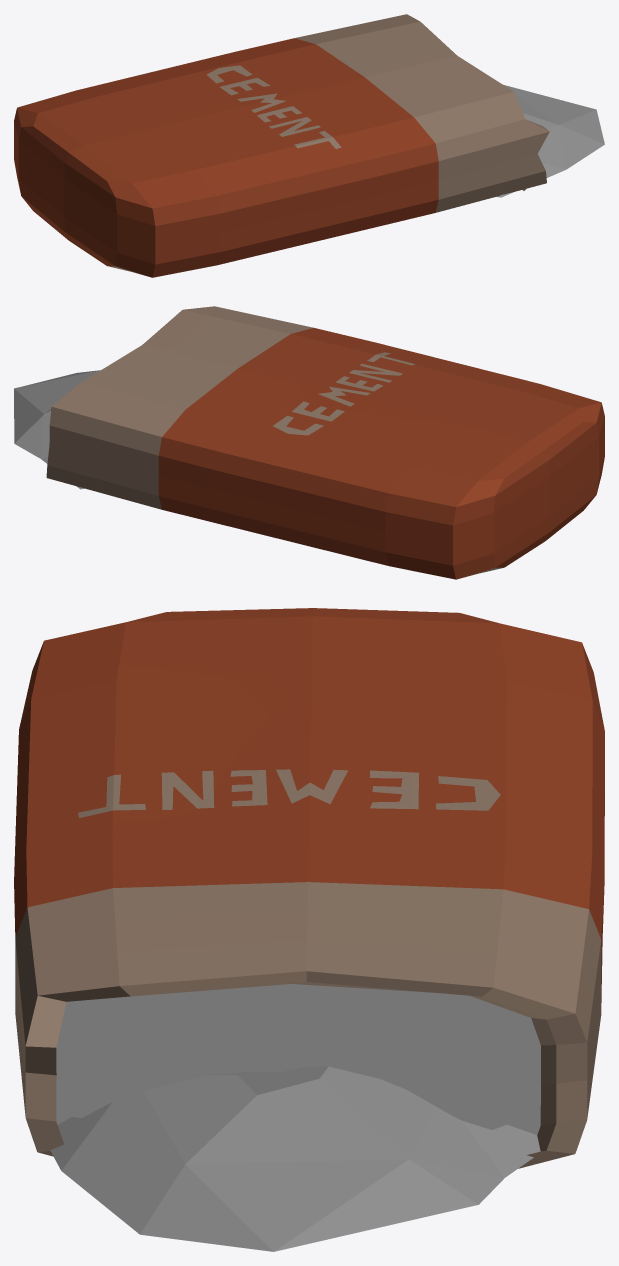
The model's file is SM_Props_CementC2_03.glb.
3 renders of one model, top to bottom at view 1: azimuth 30°, elevation 25°; view 2: azimuth 150°, elevation 25°; view 3: azimuth 270°, elevation 25°, orthographic. The views are drawn at different scales.
Visible parts, largest first — view 1: SM_Props_CementC2_03; view 2: SM_Props_CementC2_03; view 3: SM_Props_CementC2_03.
Part boxes in pixels (x1,y1,x2,y2): SM_Props_CementC2_03: (14,14,604,277); SM_Props_CementC2_03: (14,306,604,579); SM_Props_CementC2_03: (14,608,604,1251).
Size of the model in its own units: 0.7245 by 0.1276 by 0.3624.
Materials: 1 (1 with a texture image).
